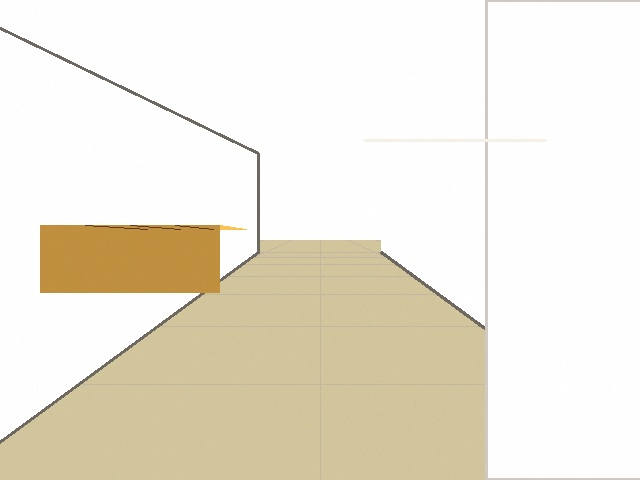hospital_bed: (364, 0, 639, 479)
pallet: (40, 225, 246, 292)
